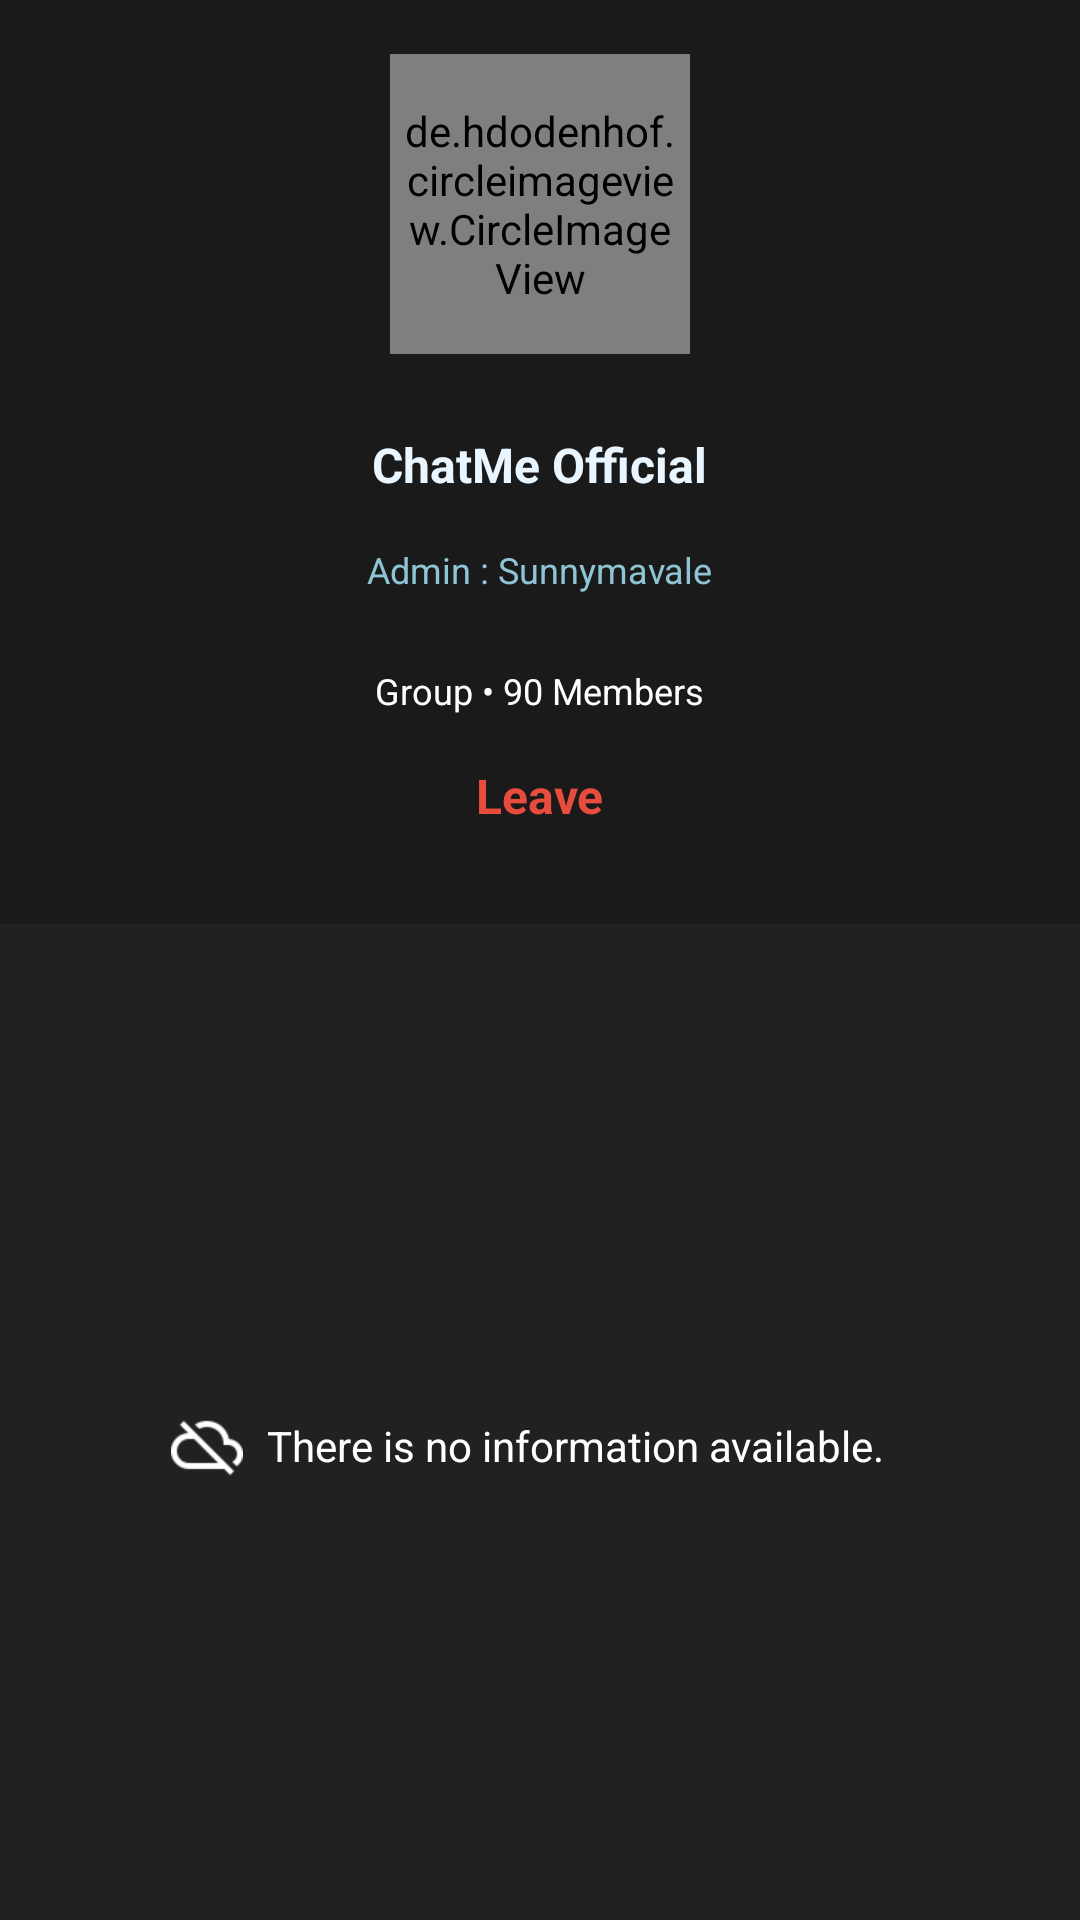

Icon click points for this 1080w x 1920h phone screenshot, format (x=x, y=y):
cloud off: (x=207, y=1447)
